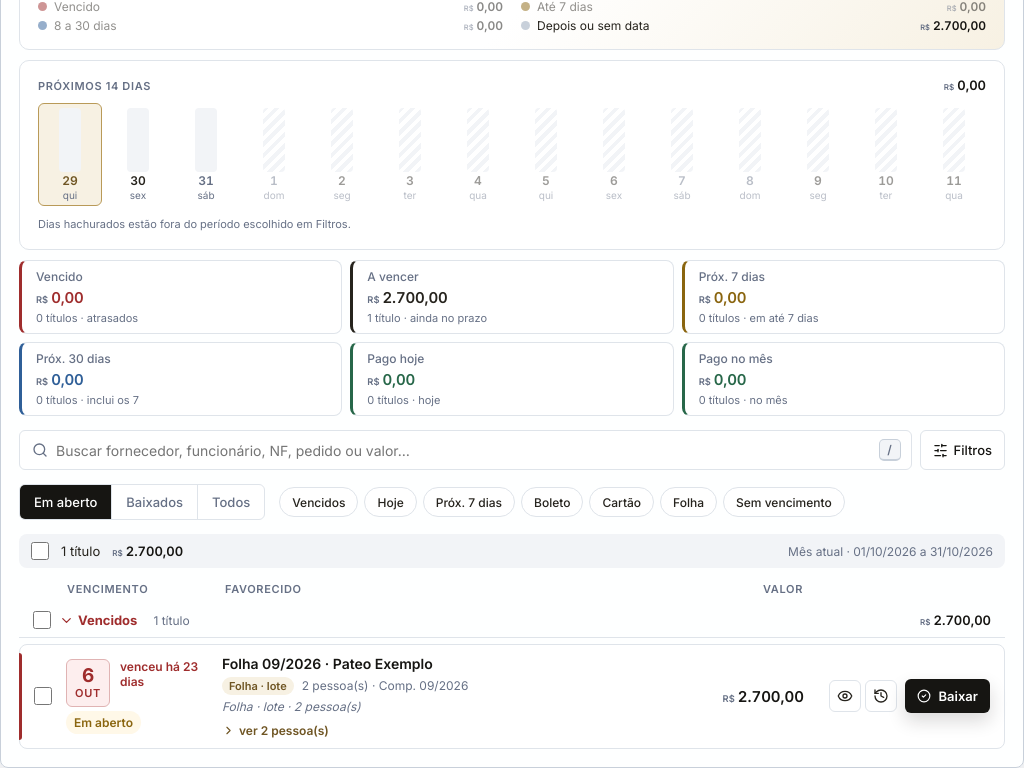
baixa do título › individual: já vem com a empresa do título e a conta dela
The image size is (1024, 768).
(page scrolled)
Step 1. Click the button "Baixar" → (947, 696), box [904,679,990,713]
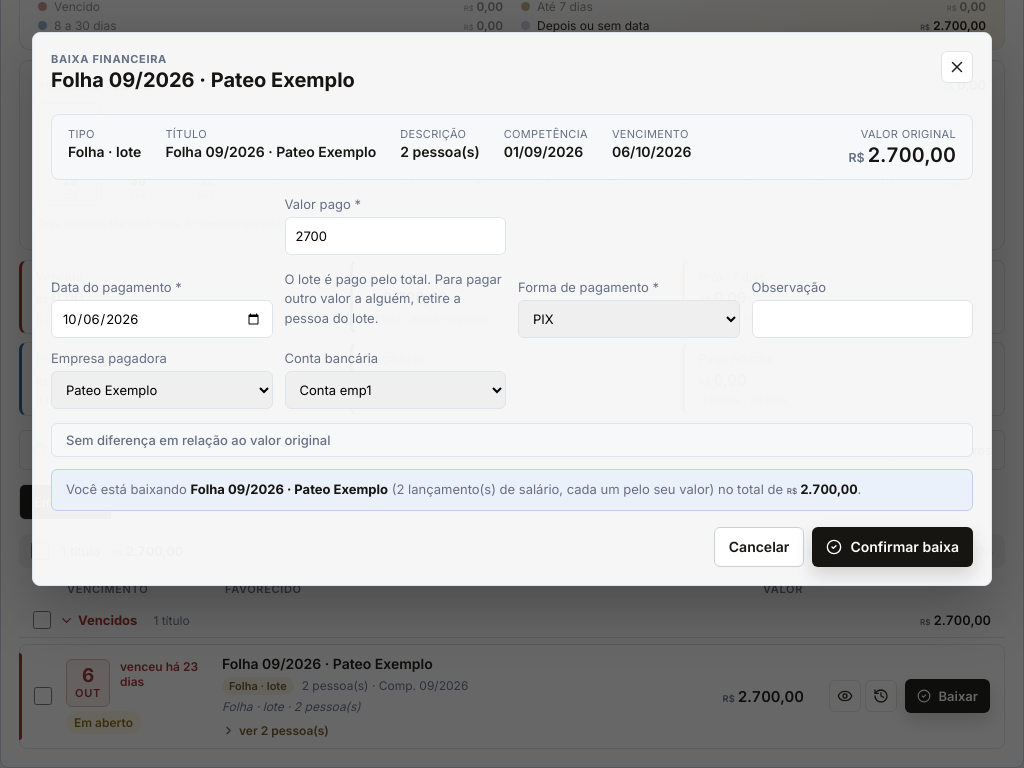
Expected: the dropdown labelled "Empresa pagadora" shows "Pateo Exemplo", [51,371,272,409]
Expected: the dropdown labelled "Conta bancária" shows "Conta emp1", [284,371,506,409]
